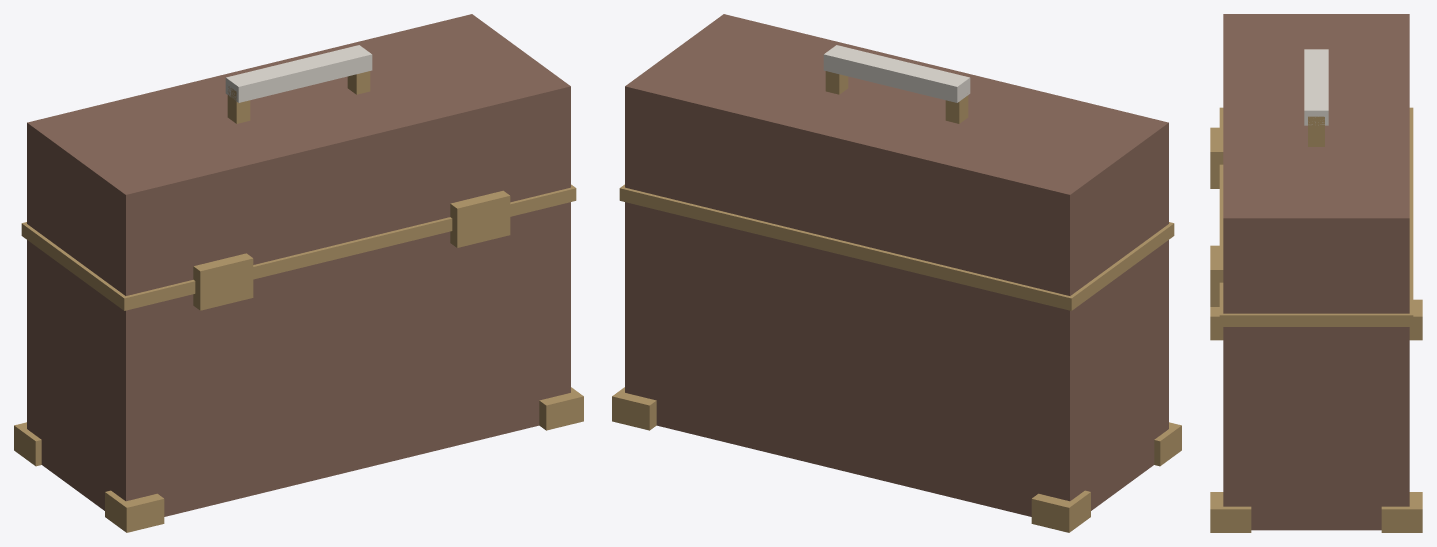
Rendered from c2_suitcase.glb.
The picture shows the model from 3 angles, left to right: view 1: azimuth 30°, elevation 25°; view 2: azimuth 150°, elevation 25°; view 3: azimuth 270°, elevation 25°; orthographic projection. The views are drawn at different scales.
Parts seen in each view (by area): view 1: c2_suitcase; view 2: c2_suitcase; view 3: c2_suitcase.
Part boxes in pixels (x1,y1,x2,y2): c2_suitcase: (14, 14, 583, 532); c2_suitcase: (612, 14, 1181, 532); c2_suitcase: (1210, 14, 1422, 532).
Size of the model in its own units: 0.534 by 0.413 by 0.228.
